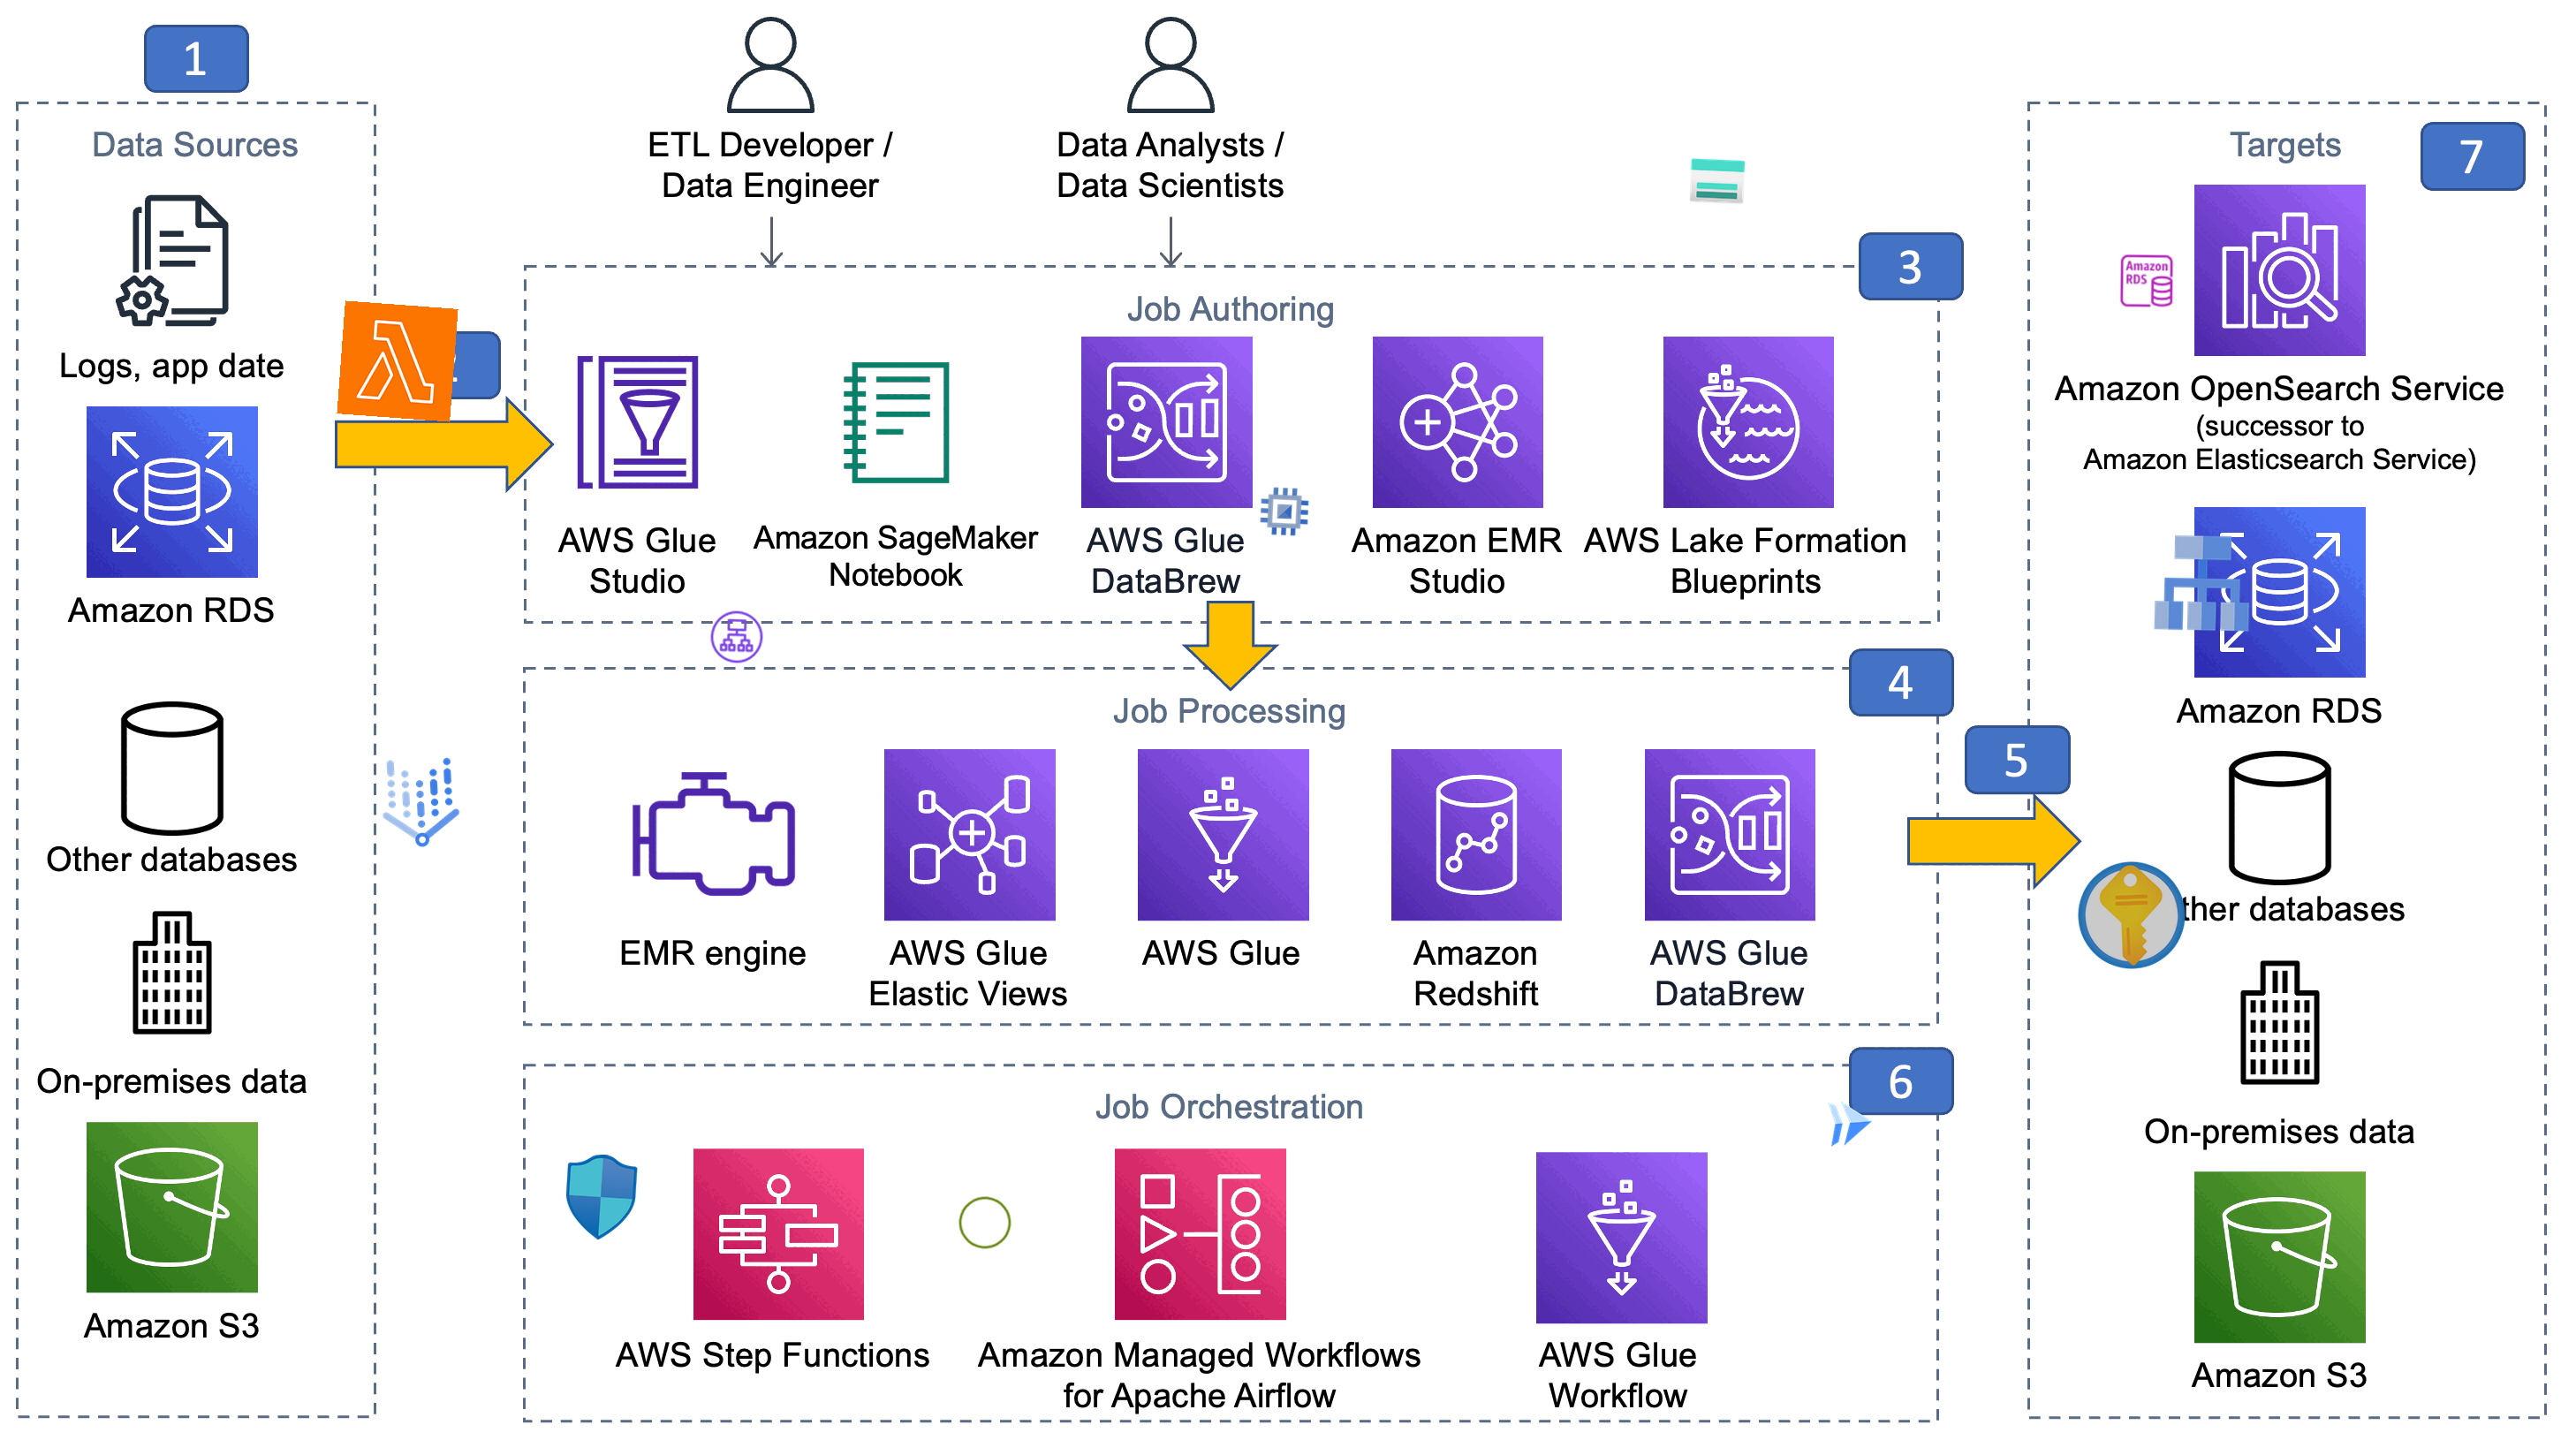aws_aurora_amazon_rds_instance: (2118, 251, 2176, 310)
aws_elastic_load_balancing_application_load_balancer: (708, 609, 766, 667)
aws_lambda: (336, 301, 458, 423)
aws_simple_storage_service_object: (954, 1192, 1016, 1254)
azure_key_vaults: (2072, 856, 2190, 975)
azure_network_security_groups: (556, 1152, 646, 1242)
azure_storage_accounts: (1688, 150, 1748, 211)
gcp_cloud_load_balancing: (2144, 525, 2261, 642)
gcp_cloud_run: (1819, 1091, 1881, 1153)
gcp_compute_engine: (1254, 481, 1315, 541)
gcp_vertex_ai: (361, 743, 481, 863)
